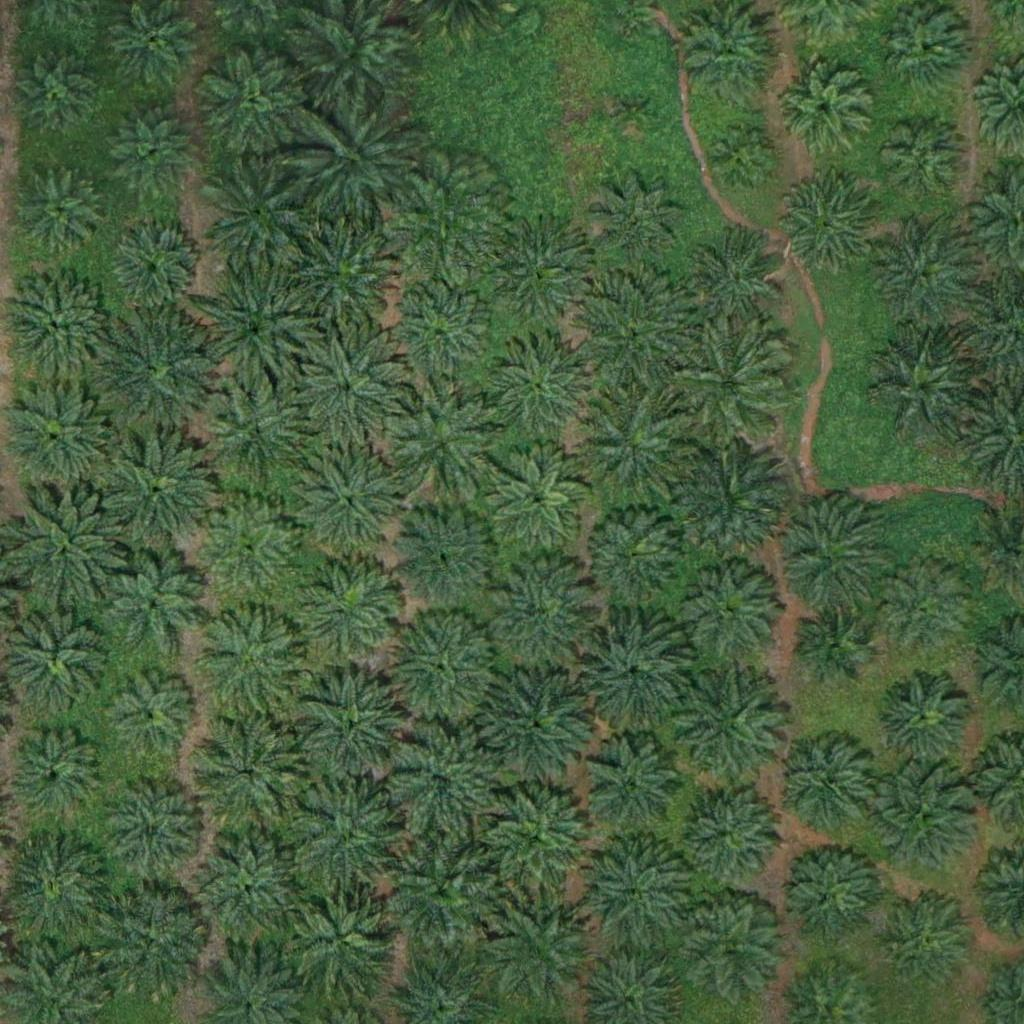Kelapa_Sawit: (389, 163, 502, 277), (301, 102, 414, 216), (670, 326, 783, 440), (774, 500, 887, 614), (864, 760, 977, 874), (102, 317, 215, 430), (100, 435, 213, 548), (196, 607, 309, 720), (188, 716, 301, 829), (281, 217, 394, 330), (384, 279, 497, 392), (388, 386, 501, 499), (385, 500, 498, 613), (488, 554, 601, 667), (480, 664, 593, 777), (581, 839, 694, 952), (482, 785, 595, 898), (293, 784, 406, 897), (284, 883, 397, 996), (193, 835, 306, 948), (1, 720, 113, 834), (479, 211, 591, 325), (483, 326, 595, 440), (578, 278, 690, 392), (575, 386, 687, 500), (675, 439, 787, 553), (672, 554, 784, 668), (95, 889, 207, 1003), (580, 166, 692, 279), (197, 46, 309, 159), (204, 160, 316, 273), (8, 490, 120, 603), (2, 603, 114, 716), (199, 275, 311, 388), (201, 377, 313, 490), (290, 336, 402, 449), (291, 447, 403, 560), (296, 671, 408, 784), (384, 614, 496, 727), (385, 726, 497, 839), (576, 607, 688, 720), (674, 672, 786, 785), (868, 331, 980, 444), (484, 896, 596, 1009), (387, 836, 499, 949), (874, 228, 974, 329), (774, 55, 874, 156), (776, 173, 876, 274), (683, 4, 783, 105), (101, 552, 201, 653), (197, 498, 297, 599), (297, 558, 397, 659), (487, 445, 587, 546), (582, 736, 682, 837), (682, 232, 782, 333), (881, 890, 981, 991), (779, 839, 879, 940), (679, 784, 779, 885), (680, 896, 780, 997), (104, 781, 204, 881), (583, 502, 683, 602), (772, 735, 872, 835), (874, 558, 974, 658), (871, 670, 971, 770), (878, 118, 966, 207), (884, 3, 972, 91), (107, 108, 195, 196), (112, 225, 200, 313), (9, 50, 97, 138), (16, 167, 103, 256), (110, 671, 197, 759), (795, 604, 870, 680), (710, 127, 773, 190), (616, 1, 653, 39), (612, 92, 649, 130)
